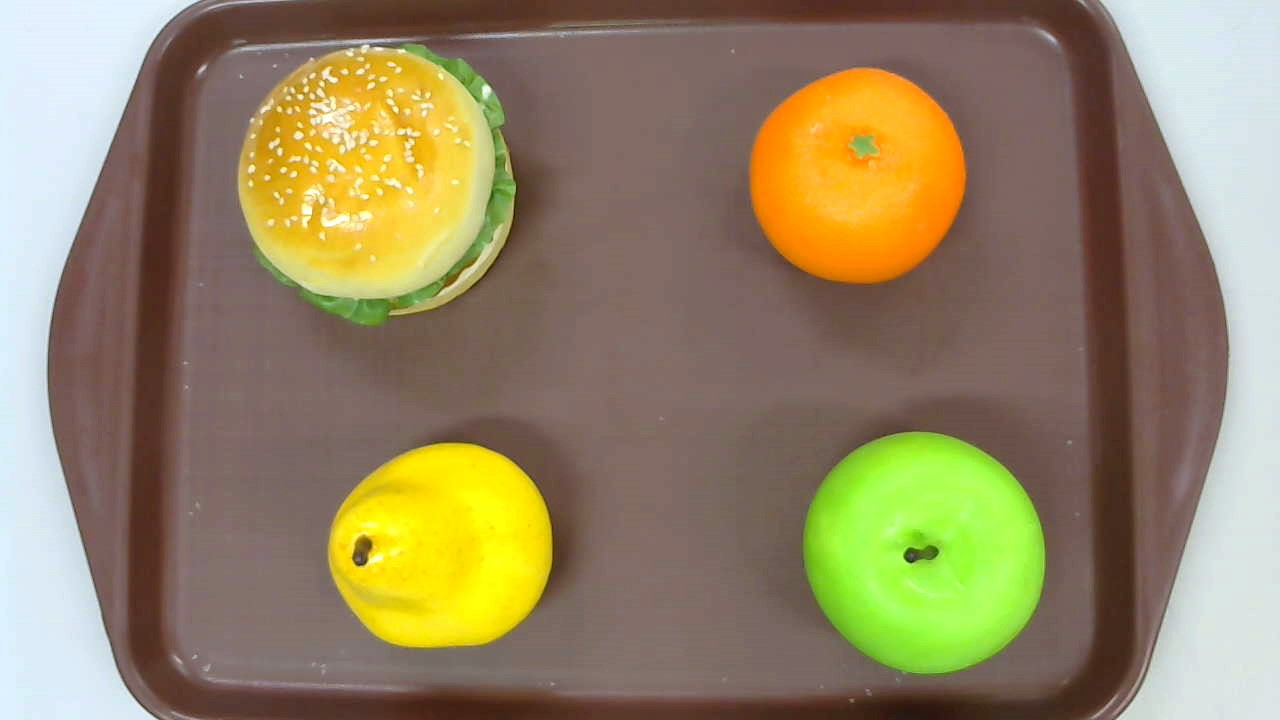green apple: (803, 430, 1046, 676)
hamburger: (237, 44, 515, 325)
orange: (749, 66, 965, 285)
yellow pear: (328, 442, 554, 648)
